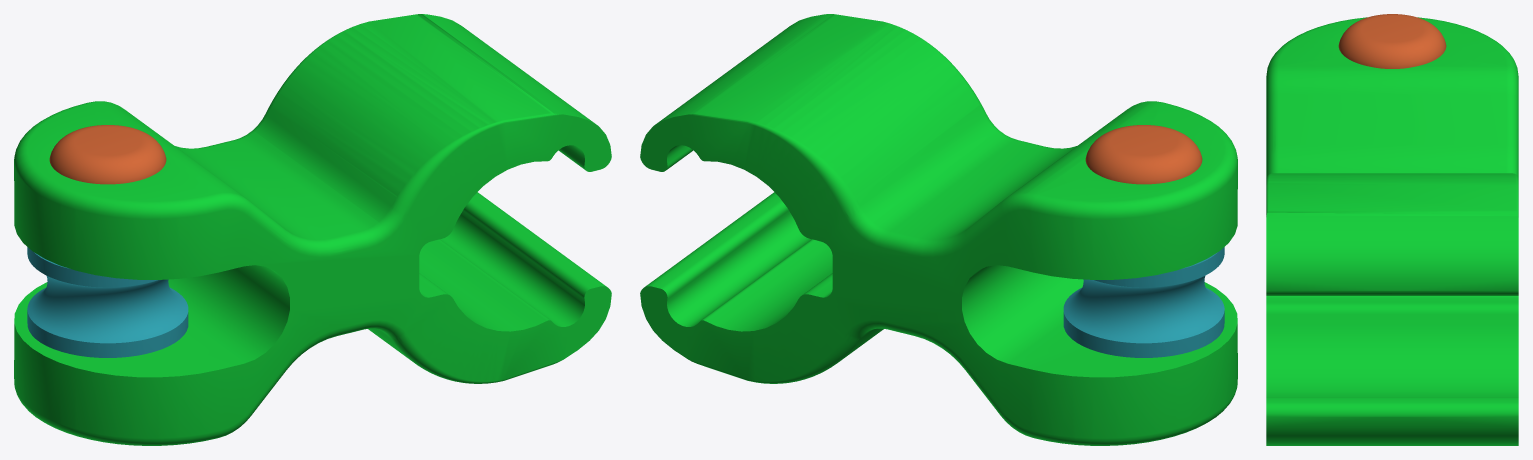
3 renders of one model, left to right at view 1: azimuth 30°, elevation 25°; view 2: azimuth 150°, elevation 25°; view 3: azimuth 270°, elevation 25°, orthographic. The views are drawn at different scales.
Parts seen in each view (by area): view 1: Object_4, Object_5, Object_3; view 2: Object_4, Object_5, Object_3; view 3: Object_4, Object_3.
Boxes of the visible parts, bbox=[...] form: Object_4: bbox=[14, 14, 611, 445]; Object_5: bbox=[27, 247, 188, 357]; Object_3: bbox=[49, 125, 166, 184]; Object_4: bbox=[640, 14, 1237, 445]; Object_5: bbox=[1063, 247, 1224, 357]; Object_3: bbox=[1085, 125, 1202, 184]; Object_4: bbox=[1266, 17, 1518, 445]; Object_3: bbox=[1338, 14, 1446, 68].
Size of the model in its own units: 1 by 0.5236 by 0.4642.
